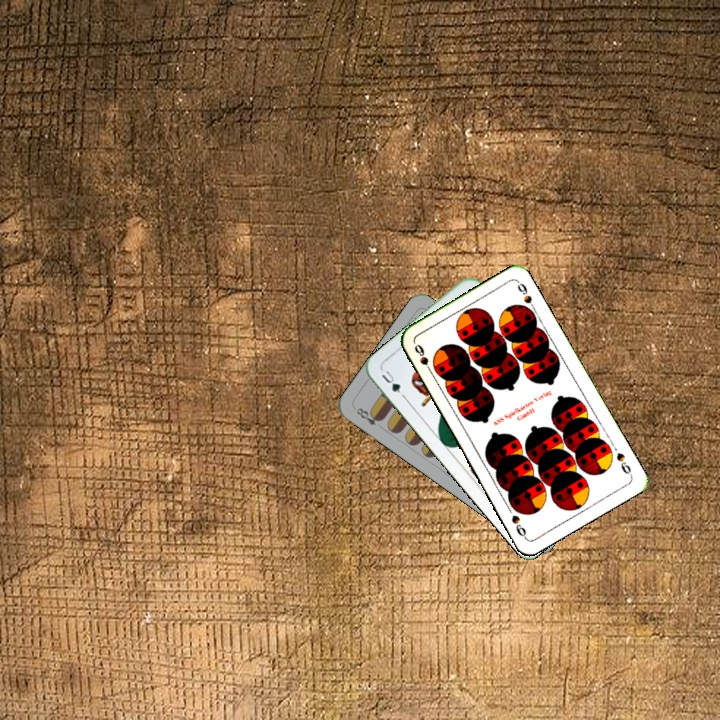E8: (351, 403, 385, 428)
GU: (377, 365, 407, 400)
S9: (410, 340, 435, 377), (612, 449, 635, 479)
